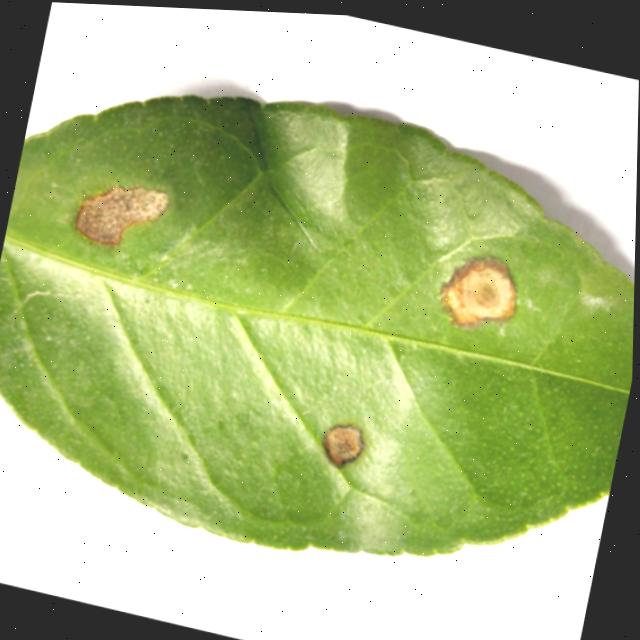antracnose: (0, 96, 634, 555), (75, 186, 168, 245), (440, 256, 516, 327), (323, 425, 363, 467)
